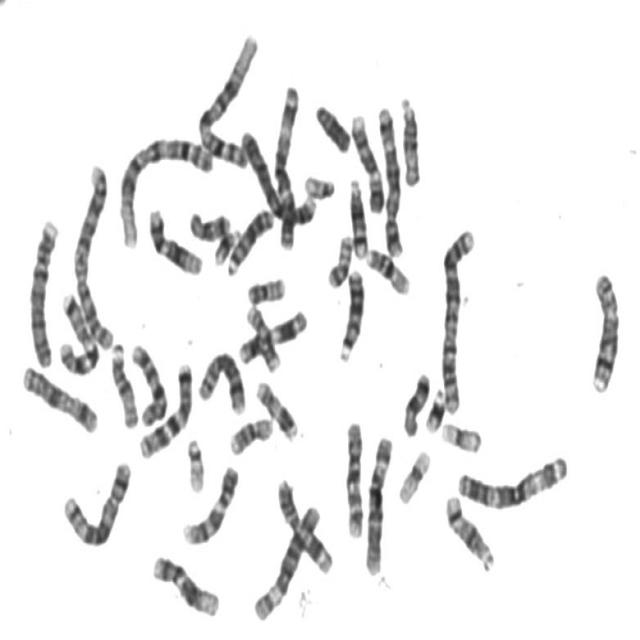A1: (115, 126, 216, 251), (192, 24, 262, 170)
A2: (69, 154, 118, 352), (436, 218, 478, 416)
A3: (453, 444, 572, 512), (270, 76, 302, 250)
B4: (236, 121, 319, 228), (24, 209, 62, 369)
B5: (57, 452, 134, 550), (374, 97, 406, 260)
C10: (126, 335, 170, 427), (340, 410, 367, 540)
C11: (272, 468, 336, 576), (234, 299, 310, 366)
C12: (148, 545, 222, 620), (144, 199, 204, 277)
C6: (250, 494, 324, 624), (360, 427, 396, 577)
C7: (135, 353, 196, 460), (53, 284, 101, 376)
C8: (586, 262, 624, 396), (194, 343, 248, 417)
C9: (179, 457, 241, 547), (346, 105, 386, 214)
D13: (222, 200, 276, 277), (334, 260, 368, 364)
D14: (441, 485, 497, 573), (344, 169, 371, 259)
D15: (107, 334, 140, 429), (396, 88, 424, 188)
E16: (362, 238, 413, 297), (226, 408, 276, 456)
E17: (251, 372, 300, 442), (241, 297, 282, 374)
E18: (399, 364, 432, 439), (185, 202, 233, 243)
F19: (394, 441, 433, 505), (437, 412, 485, 455)
F20: (324, 225, 356, 290), (243, 268, 288, 306)
G21: (210, 221, 243, 267), (421, 380, 448, 434)
G22: (182, 428, 208, 495), (300, 165, 337, 200)
X: (17, 356, 100, 436)
Y: (311, 94, 354, 155)
